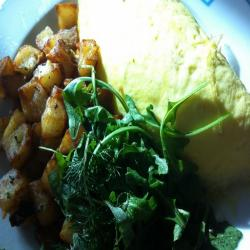fries: (1, 1, 102, 232)
omelette: (79, 1, 249, 184)
salad: (49, 93, 221, 250)
